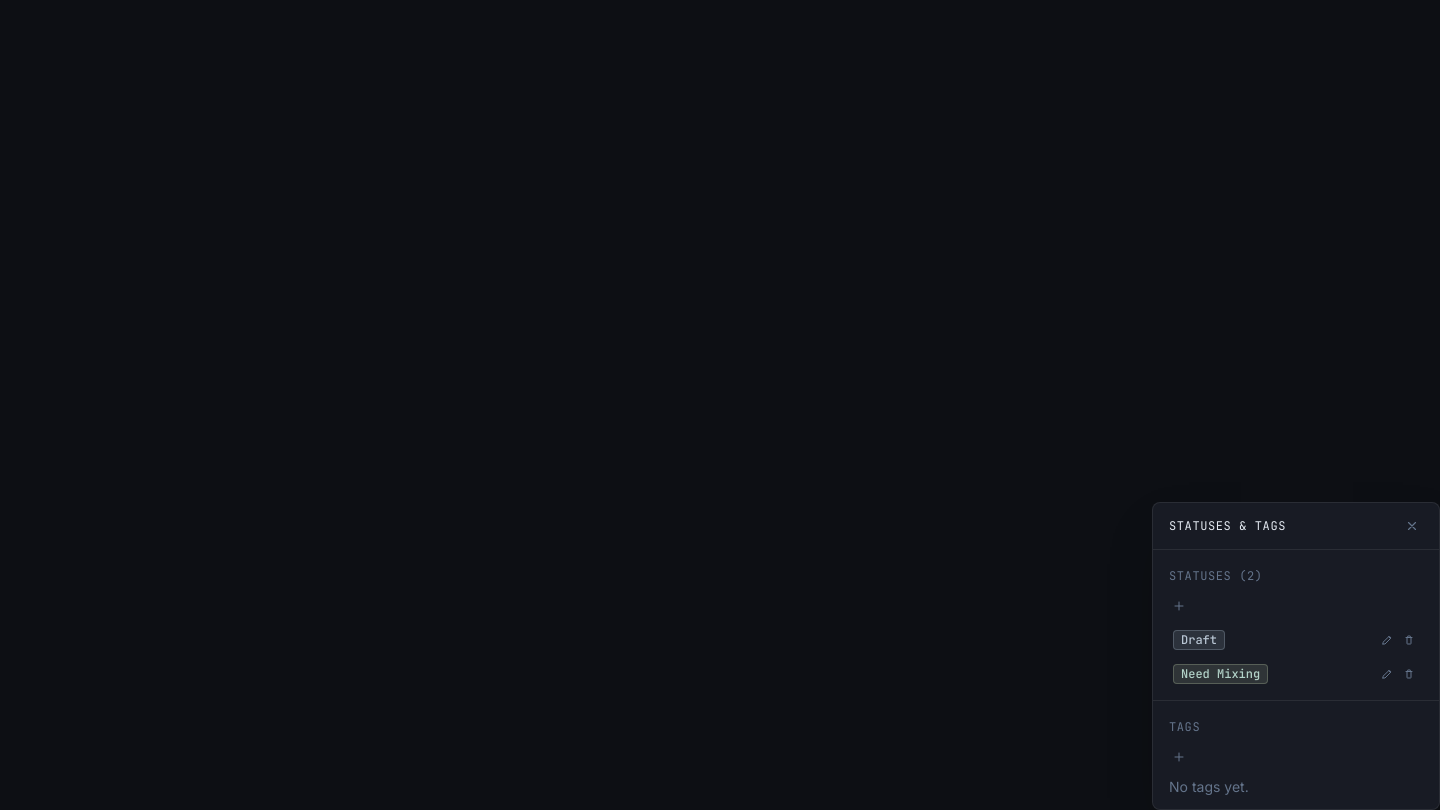
Test: TagsStatusesPanel - add status › opens the add-status form, disables Add while the name is blank, and creates on submit
(page scrolled)
Expected: the text "Draft" is shown, x1=1173 y1=630 x2=1225 y2=650
Click the button named "Add status".
click(1179, 606)  # box x1=1169 y1=598 x2=1189 y2=614
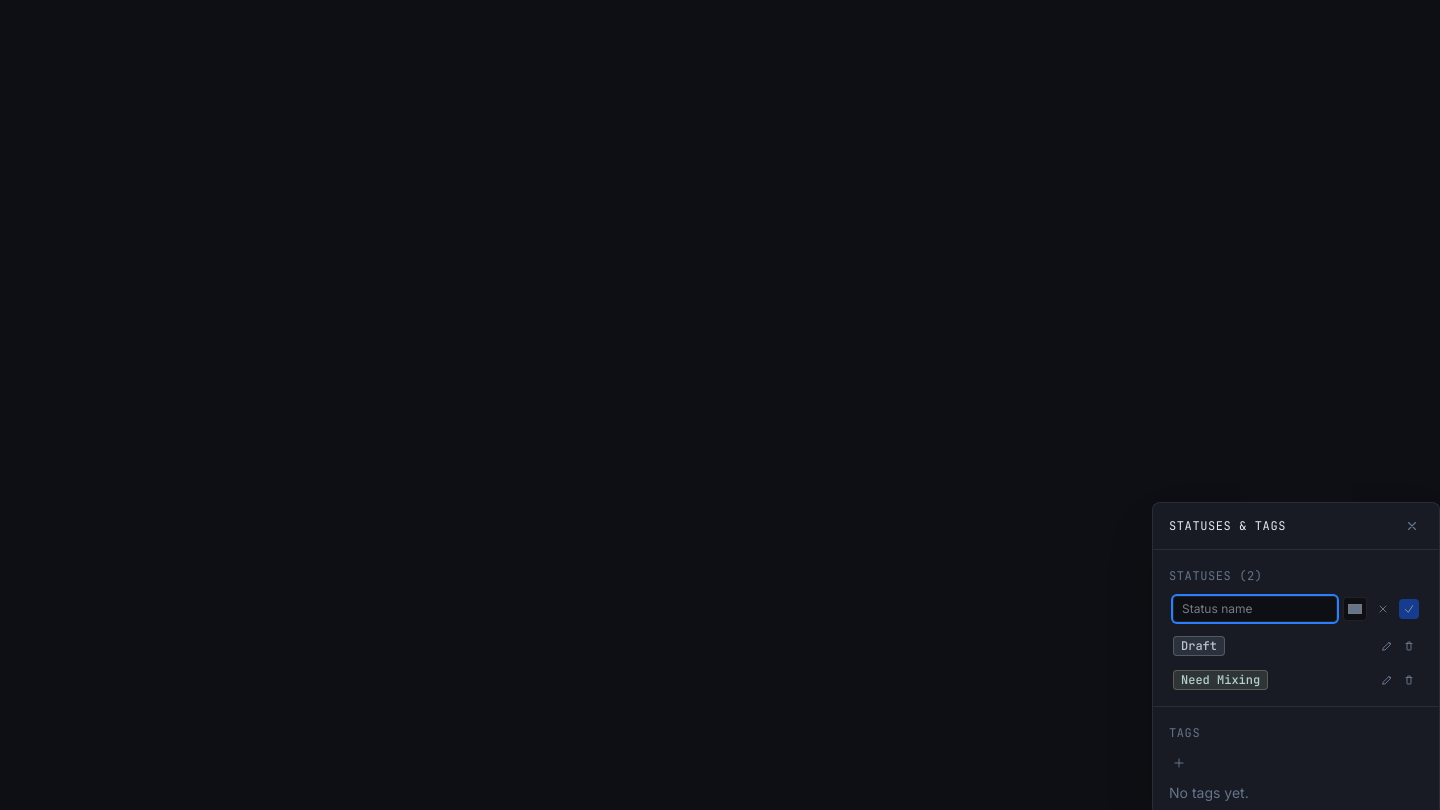
Expected: the button named "Add" is disabled, x1=1399 y1=599 x2=1419 y2=619
Type "Released" into the field named "New status name".
click(1255, 609); type("Released")  # box x1=1173 y1=596 x2=1337 y2=622
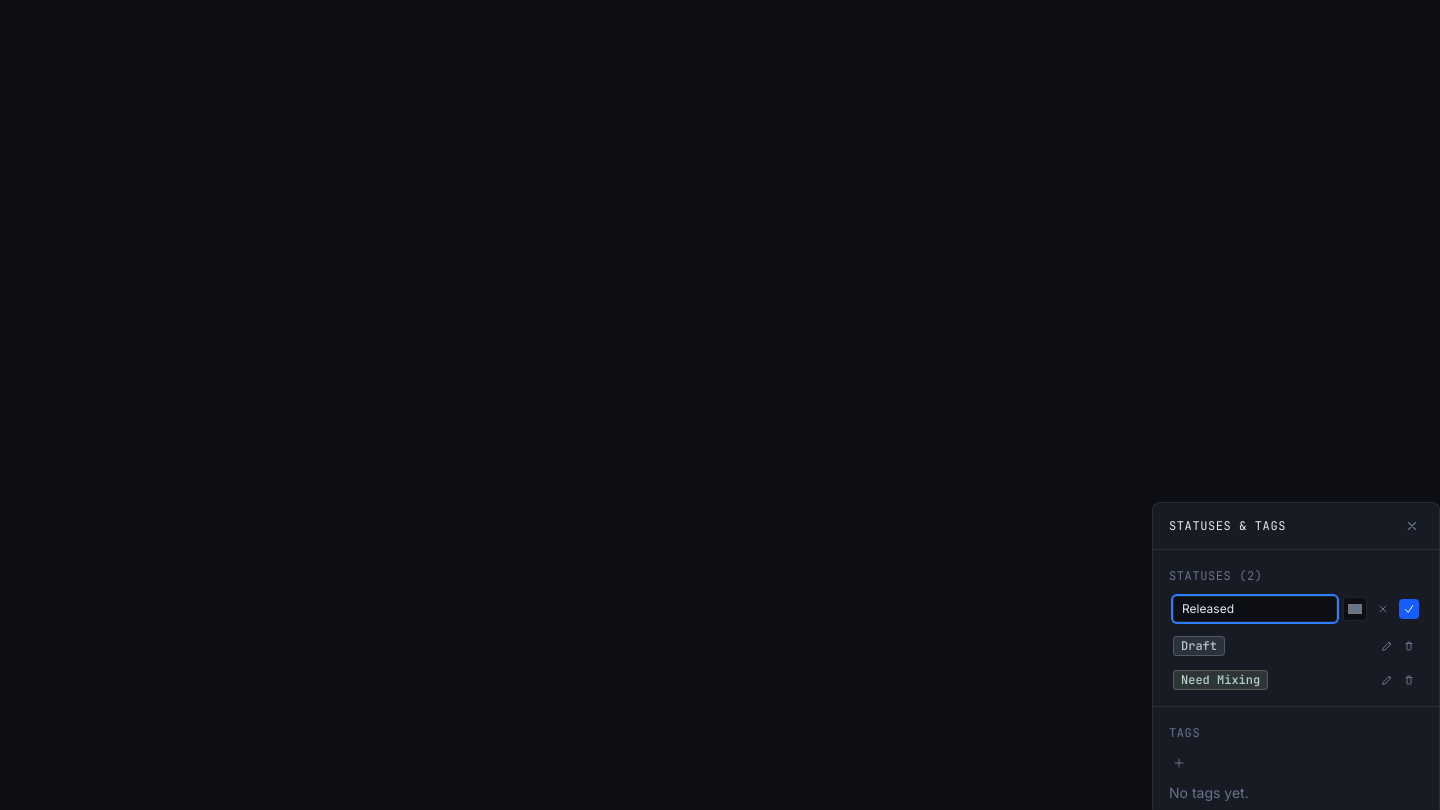
Expected: the button named "Add" is enabled, x1=1399 y1=599 x2=1419 y2=619
Type "#123456" into the colour field named "New status color".
click(1355, 609); type("#123456")  # box x1=1343 y1=597 x2=1367 y2=621
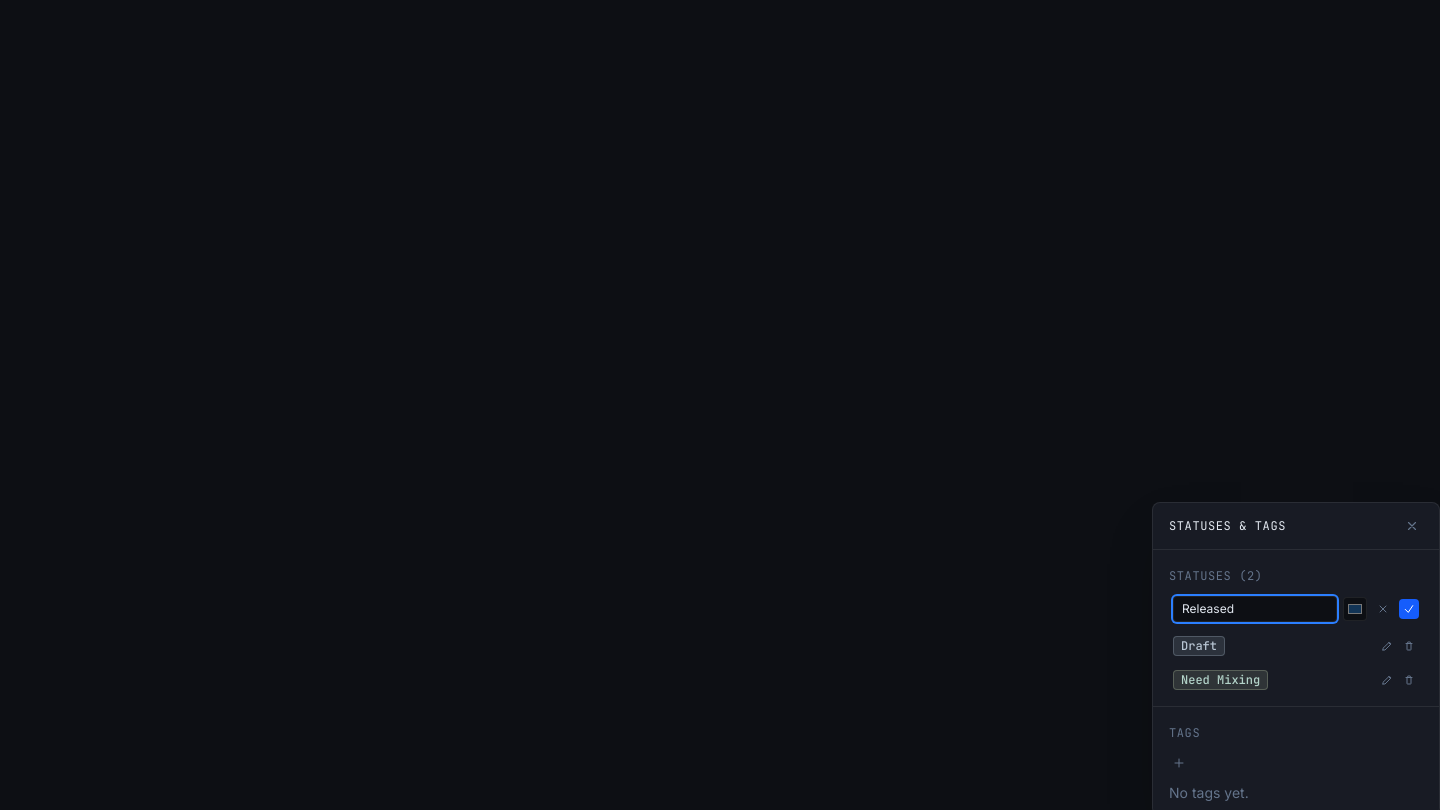
Click the button named "Add".
click(1409, 609)  # box x1=1399 y1=599 x2=1419 y2=619
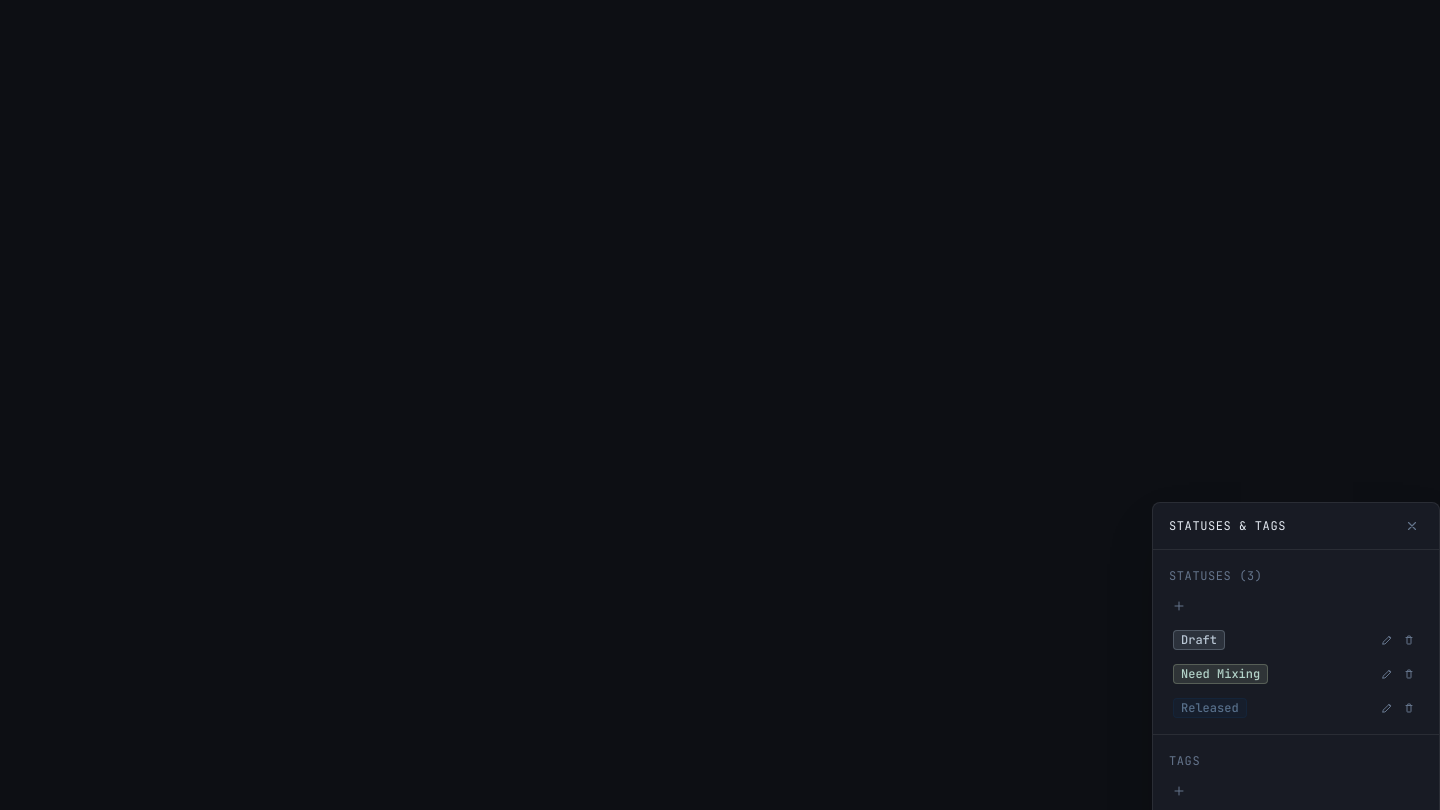
Expected: the button named "Add status" is shown, x1=1169 y1=598 x2=1189 y2=614
